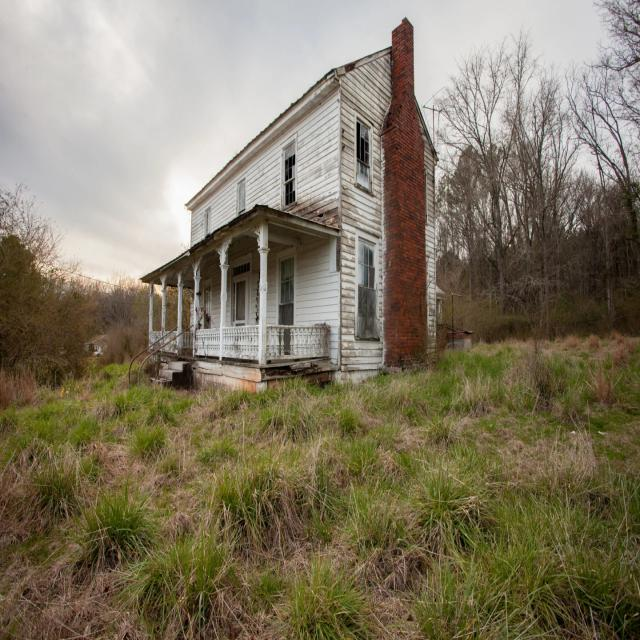House: (138, 15, 438, 394)
